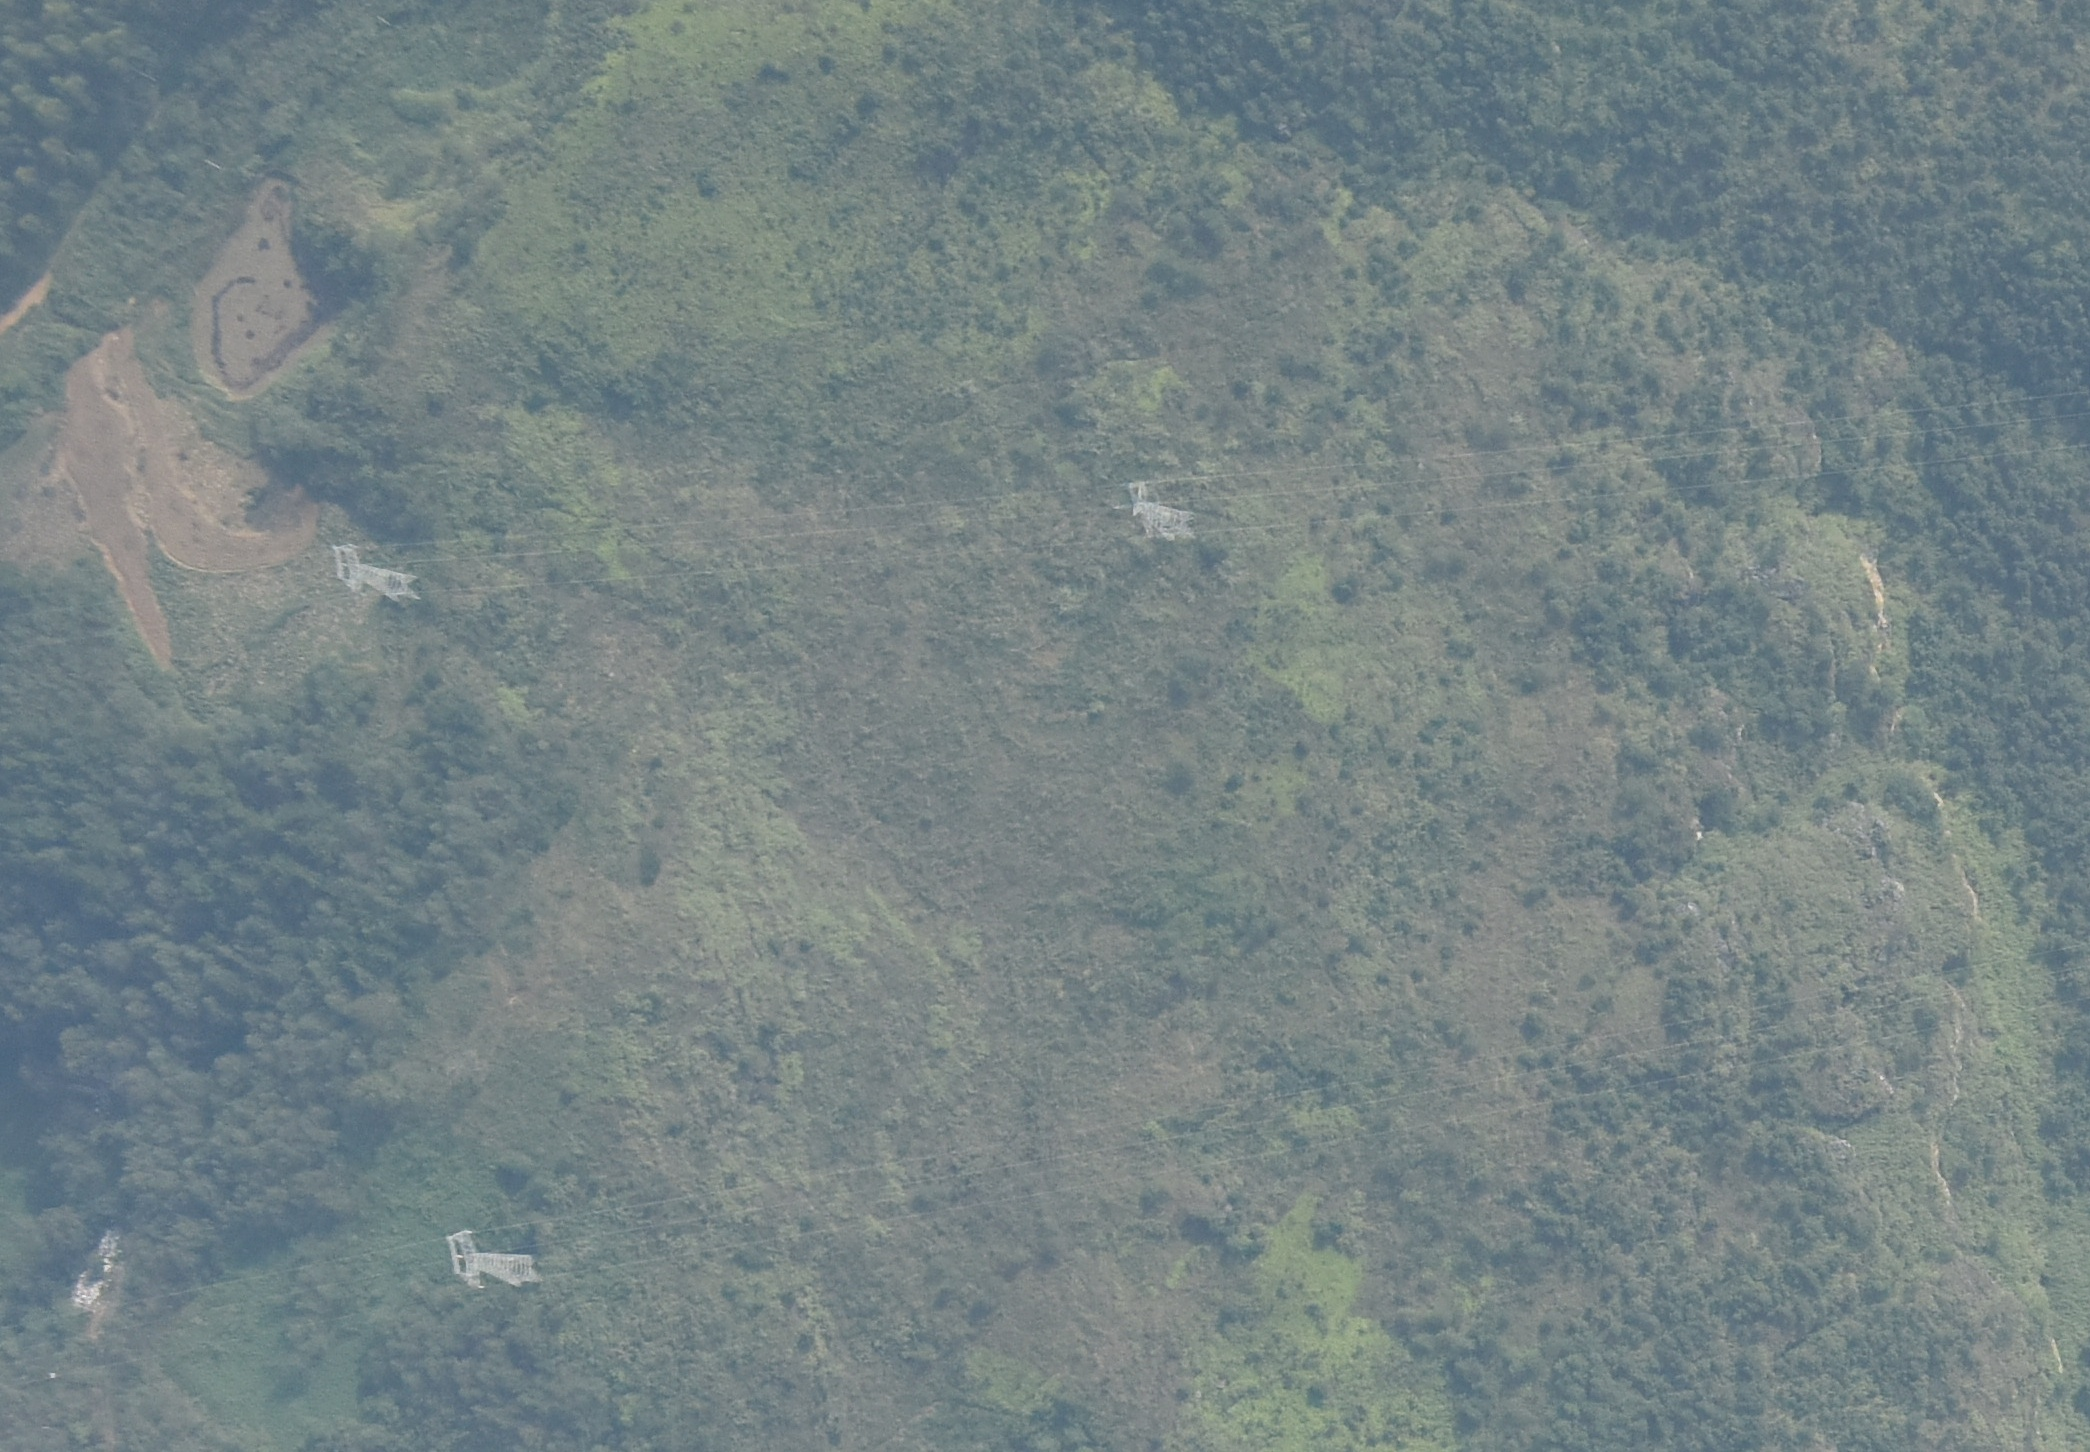cable-tower: (331, 535, 422, 609), (444, 1223, 537, 1290), (1122, 471, 1196, 551)
